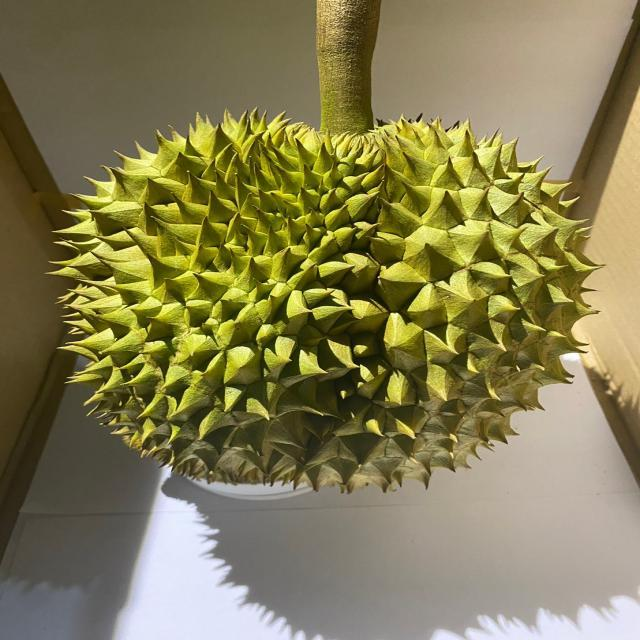immature: (51, 105, 607, 501)
